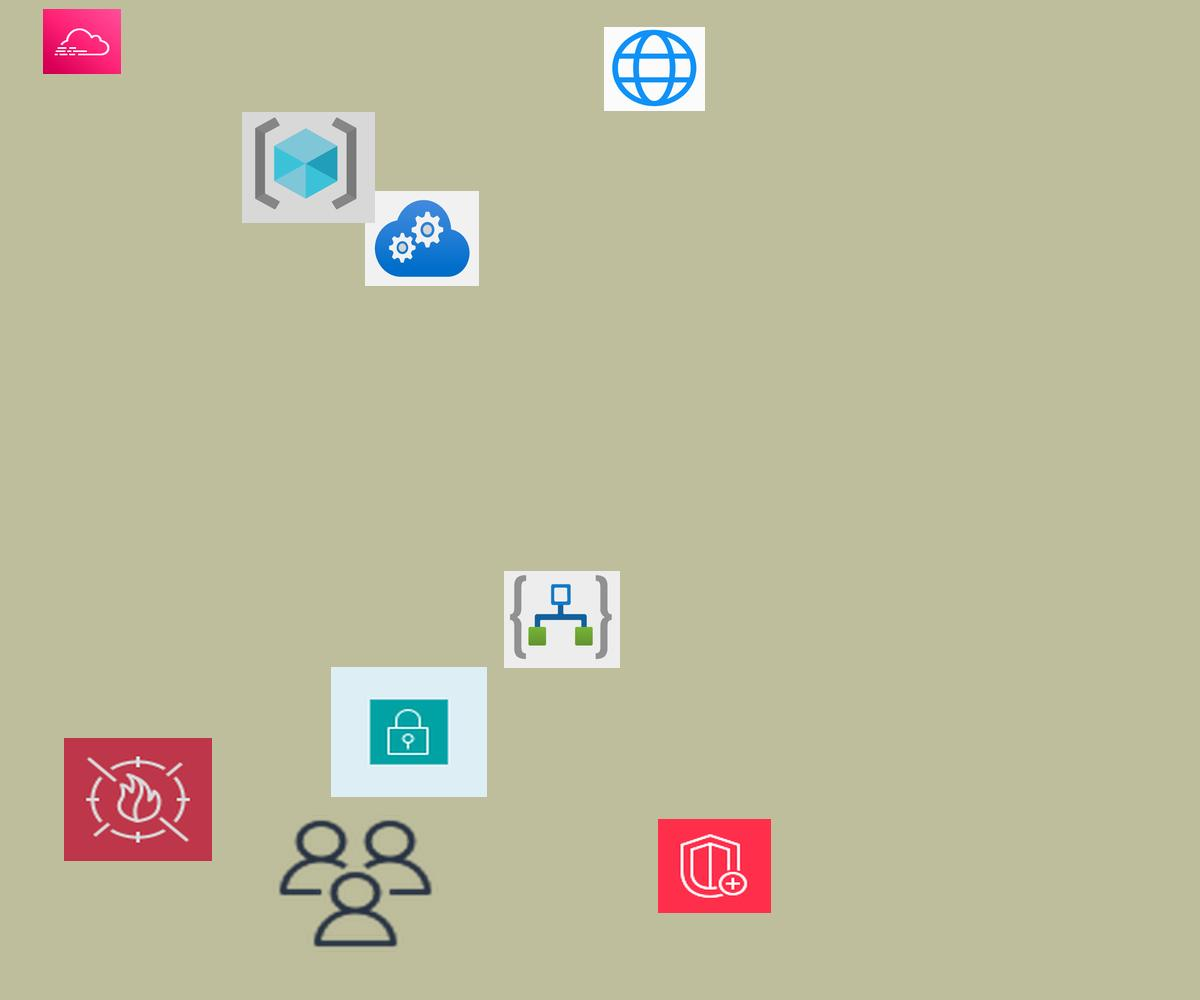AWS-CloudTrail: (43, 9, 121, 74)
AWS-Private-subnet: (331, 667, 487, 797)
AWS-Res_Users: (273, 815, 438, 952)
AWS-Shield: (658, 819, 771, 913)
AWS-WAF: (64, 738, 212, 861)
Azure_cloud_services: (365, 191, 479, 286)
Azure_http: (604, 27, 705, 111)
Azure_integration-204-Logic-Apps: (504, 571, 620, 668)
Azure_resource_group: (242, 112, 375, 223)
